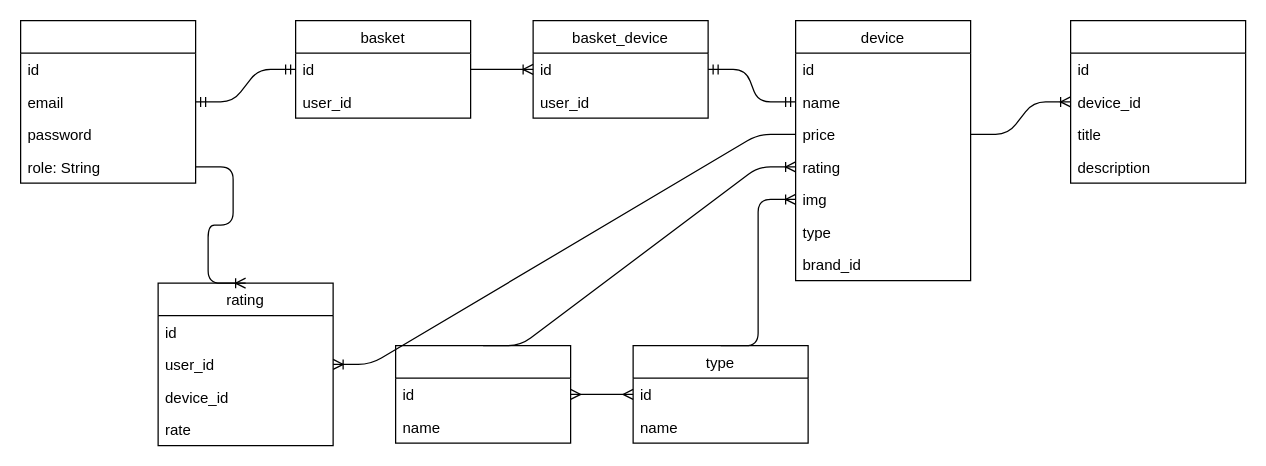
Some shapes in this 1266 by 466 pixel diagram are drawn without their labels. The shapes that lost their labels are listed below. From the top down, each one's box as (x1, y1, x2, y2) in pixels, then its label:
(19, 19, 196, 183): user
(1069, 19, 1246, 183): device_info
(394, 344, 571, 443): brand
